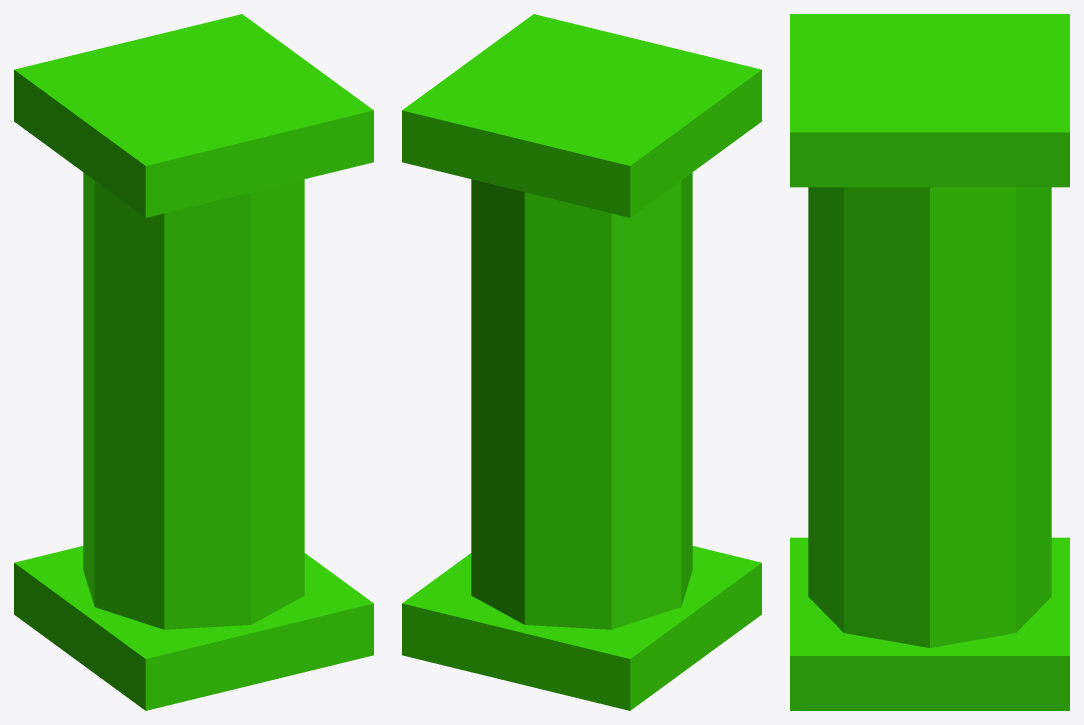
Rendered from column2.fbx.
3 views of the same model, side by side, from view 1: azimuth 30°, elevation 25°; view 2: azimuth 150°, elevation 25°; view 3: azimuth 270°, elevation 25° (orthographic). The views are drawn at different scales.
Parts seen in each view (by area): view 1: column2; view 2: column2; view 3: column2.
Boxes of the visible parts, x1,y1,x2,y2 form: column2: (14,14,373,710); column2: (402,14,761,710); column2: (790,14,1069,710).
Size of the model in its own units: 92 by 210 by 92.
